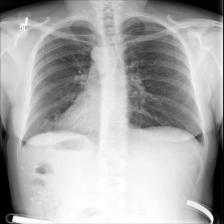normal: (23, 14, 207, 155)
